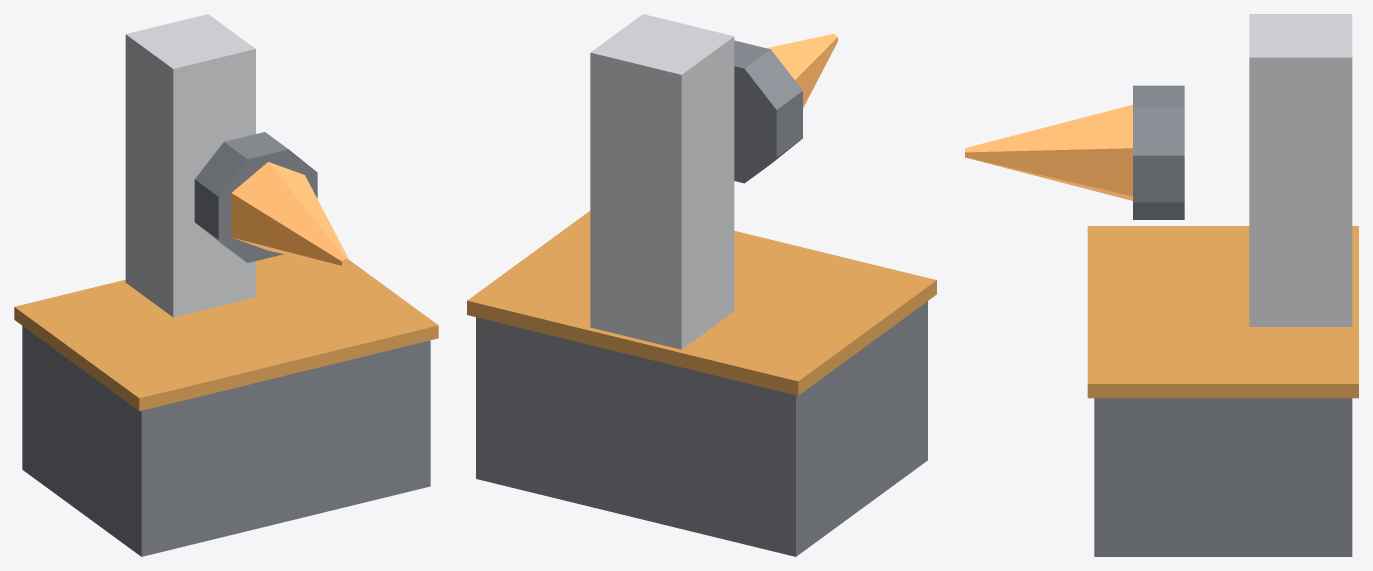
Rendered from drill-rig.glb.
3 views of the same model, side by side, from view 1: azimuth 30°, elevation 25°; view 2: azimuth 150°, elevation 25°; view 3: azimuth 270°, elevation 25° (orthographic). The views are drawn at different scales.
Visible parts, largest first — view 1: base, bit; view 2: base, bit; view 3: base, bit.
Boxes of the visible parts, x1,y1,x2,y2 form: base: (14,14,438,556); bit: (194,132,349,266); base: (467,14,936,556); bit: (734,33,837,183); base: (1087,14,1358,556); bit: (965,85,1184,219).
Size of the model in its own units: 1.45 by 1.9 by 1.52.
